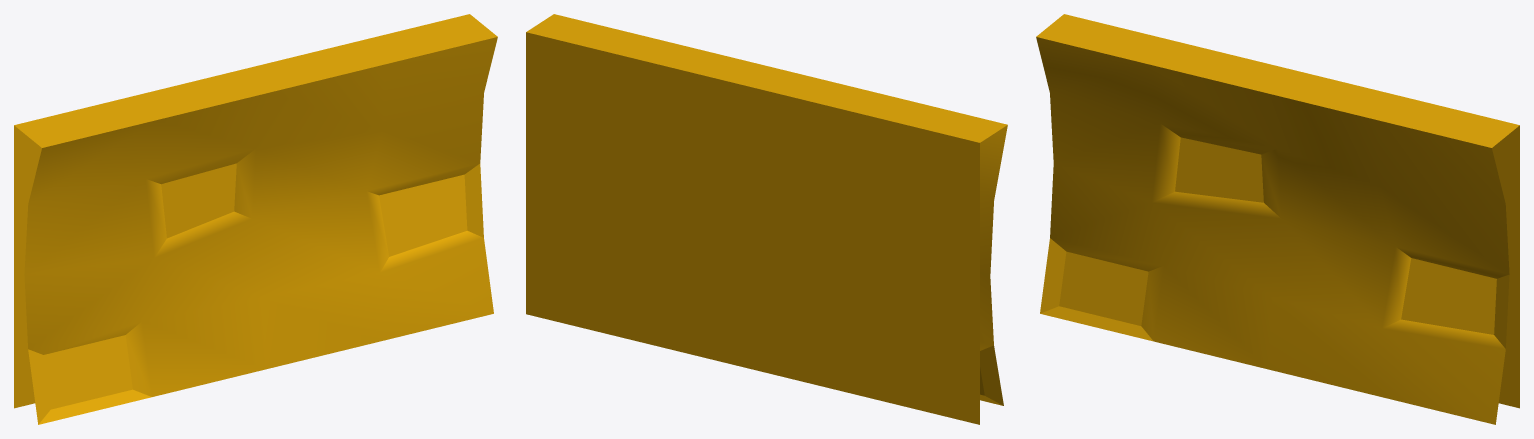
The model's file is m_minewallplain.fbx.
3 renders of one model, left to right at view 1: azimuth 30°, elevation 25°; view 2: azimuth 150°, elevation 25°; view 3: azimuth 330°, elevation 25°, orthographic.
Parts seen in each view (by area): view 1: m_minewallplain; view 2: m_minewallplain; view 3: m_minewallplain.
Boxes of the visible parts, x1,y1,x2,y2 form: m_minewallplain: [14, 14, 497, 424]; m_minewallplain: [526, 14, 1007, 424]; m_minewallplain: [1036, 14, 1519, 424].
Size of the model in its own units: 8 by 4.75 by 0.8543.
